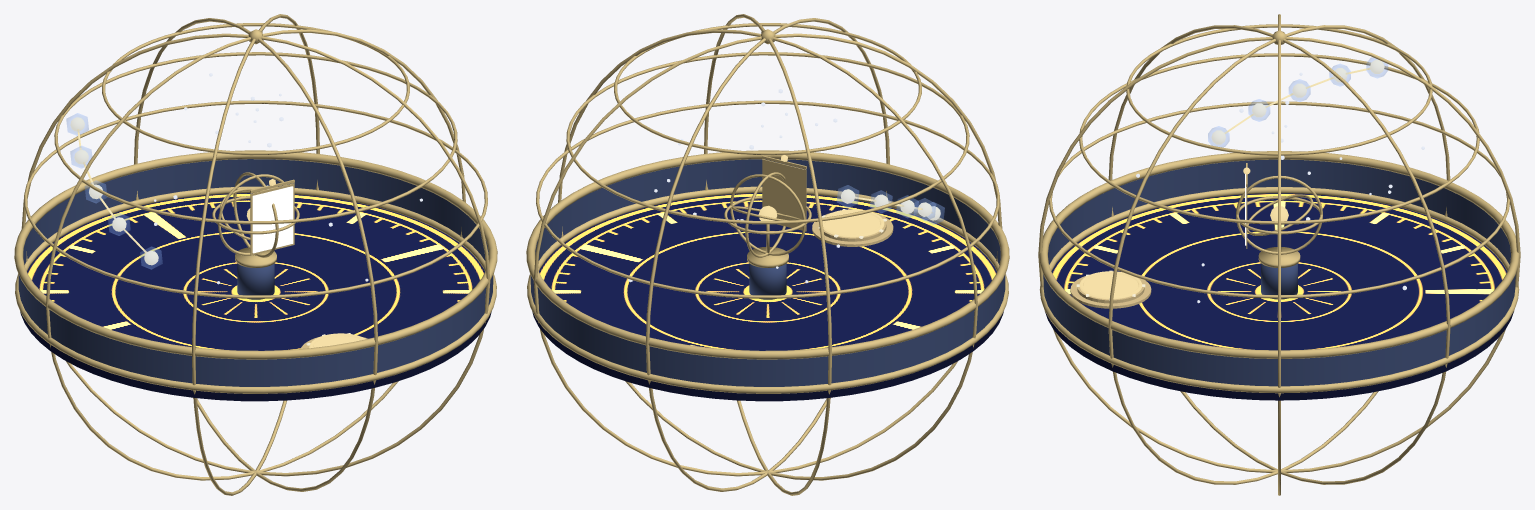
The model's file is north.glb.
3 views of the same model, side by side, from view 1: azimuth 30°, elevation 25°; view 2: azimuth 150°, elevation 25°; view 3: azimuth 270°, elevation 25° (orthographic).
Visible parts, largest first — view 1: Obs_Floor, Obs_Wall, Obs_RimTop, Obs_RimBot, Obs_Rib_3, Obs_Rib_0, Obs_Lat_3.0, Obs_Rib_2, Obs_Lat_5.0, Obs_Rib_1, Obs_Lat_6.6, CV_Page (+3 smaller); view 2: Obs_Floor, Obs_Wall, Obs_RimTop, Obs_RimBot, Obs_Rib_1, Obs_Rib_0, Obs_Lat_3.0, Obs_Rib_2, Obs_Lat_5.0, Obs_Rib_3, Obs_Lat_6.6, CV_Frame (+5 smaller); view 3: Obs_Floor, Obs_Wall, Obs_RimTop, Obs_RimBot, Obs_Rib_2, Obs_Rib_3, Obs_Rib_1, Obs_Lat_3.0, Obs_Lat_5.0, Obs_Lat_6.6, Obs_Rib_0, Obs_Ped (+5 smaller).
Part boxes in pixels (left/top/right/bottom): Obs_Floor: left=20, top=193, right=491, bottom=401; Obs_Wall: left=18, top=159, right=493, bottom=386; Obs_RimTop: left=14, top=150, right=497, bottom=359; Obs_RimBot: left=15, top=186, right=496, bottom=393; Obs_Rib_3: left=21, top=33, right=490, bottom=476; Obs_Rib_0: left=46, top=29, right=465, bottom=480; Obs_Lat_3.0: left=24, top=100, right=487, bottom=298; Obs_Rib_2: left=134, top=18, right=378, bottom=491; Obs_Lat_5.0: left=54, top=52, right=457, bottom=224; Obs_Rib_1: left=192, top=14, right=319, bottom=495; Obs_Lat_6.6: left=102, top=23, right=409, bottom=155; CV_Page: left=252, top=186, right=293, bottom=253; Obs_Floor: left=532, top=193, right=1003, bottom=401; Obs_Wall: left=530, top=159, right=1005, bottom=386; Obs_RimTop: left=526, top=150, right=1009, bottom=359; Obs_RimBot: left=527, top=186, right=1008, bottom=393; Obs_Rib_1: left=533, top=33, right=1002, bottom=476; Obs_Rib_0: left=558, top=29, right=977, bottom=480; Obs_Lat_3.0: left=536, top=100, right=999, bottom=298; Obs_Rib_2: left=645, top=18, right=889, bottom=491; Obs_Lat_5.0: left=566, top=52, right=969, bottom=224; Obs_Rib_3: left=704, top=14, right=831, bottom=495; Obs_Lat_6.6: left=614, top=23, right=921, bottom=155; CV_Frame: left=762, top=159, right=806, bottom=231; Obs_Floor: left=1045, top=193, right=1513, bottom=400; Obs_Wall: left=1043, top=159, right=1515, bottom=386; Obs_RimTop: left=1039, top=151, right=1519, bottom=358; Obs_RimBot: left=1039, top=187, right=1519, bottom=393; Obs_Rib_2: left=1038, top=37, right=1520, bottom=472; Obs_Rib_3: left=1108, top=25, right=1450, bottom=484; Obs_Rib_1: left=1108, top=25, right=1450, bottom=484; Obs_Lat_3.0: left=1048, top=101, right=1510, bottom=298; Obs_Lat_5.0: left=1079, top=53, right=1479, bottom=224; Obs_Lat_6.6: left=1126, top=24, right=1432, bottom=155; Obs_Rib_0: left=1278, top=14, right=1280, bottom=495; Obs_Ped: left=1261, top=263, right=1297, bottom=299.
Size of the model in its own units: 14.31 by 14.5 by 14.31.
Materials: 11 (1 with a texture image).
